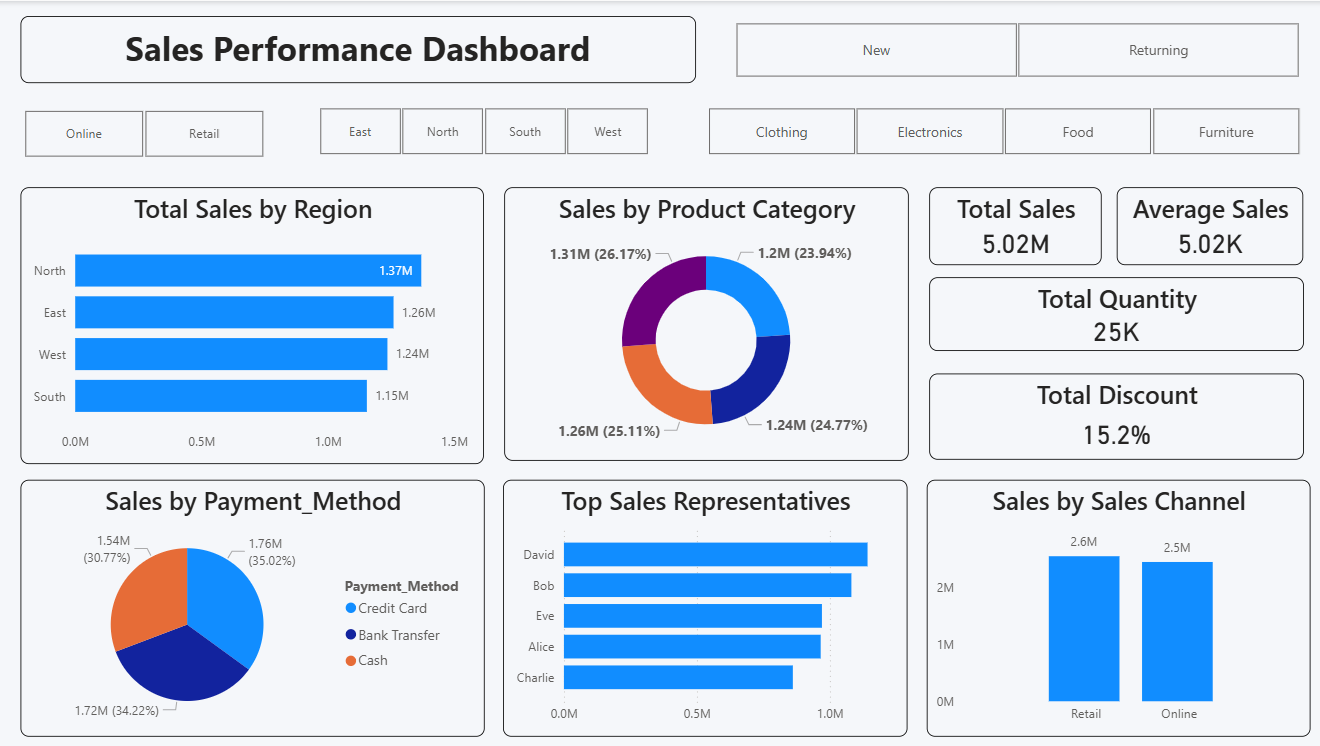

This screenshot's page, from the dashboard's own definition file:
{"tool":"powerbi","page":{"name":"Page 1","canvas":[1280,720],"ordinal":0},"visuals":[{"type":"card","title":"Total Sales","fields":{"Values":["sales_data.Total Sales"]},"box":[898.6,180,166.4,75],"z":0},{"type":"card","title":"Total Quantity","fields":{"Values":["sales_data.Total Quantity"]},"box":[899.3,266.4,361.4,71.4],"z":1000},{"type":"card","title":"Average Sales","fields":{"Values":["sales_data.Average Sales"]},"box":[1080,180,180,75],"z":2000},{"type":"clusteredBarChart","fields":{"Category":["sales_data.Region"],"Y":["sales_data.Total Sales"]},"box":[21.2,180,447.5,267.5],"z":3000},{"type":"donutChart","title":"Sales by Product Category","fields":{"Category":["sales_data.Product_Category"],"Y":["Sum(sales_data.Sales_Amount)"]},"box":[488.8,180,390,263.8],"z":4000},{"type":"clusteredColumnChart","title":"Sales by Sales Channel","fields":{"Category":["sales_data.Sales_Channel"],"Y":["sales_data.Total Sales"]},"box":[896,462,370,248],"z":5000},{"type":"pieChart","title":"Sales by Payment_Method","fields":{"Category":["sales_data.Payment_Method"],"Y":["sales_data.Total Sales"]},"box":[22,462,448,248],"z":6000},{"type":"clusteredBarChart","title":"Top Sales Representatives","fields":{"Category":["sales_data.Sales_Rep"],"Y":["sales_data.Total Sales"]},"box":[488,462,390,248],"z":7000},{"type":"slicer","fields":{"Values":["sales_data.Region"]},"box":[285,96.7,366.7,58.3],"z":8000},{"type":"slicer","fields":{"Values":["sales_data.Product_Category"]},"box":[660,96.7,620,58.3],"z":9000},{"type":"slicer","fields":{"Values":["sales_data.Customer_Type"]},"box":[687,15,593,65],"z":10000},{"type":"slicer","fields":{"Values":["sales_data.Sales_Channel"]},"box":[0,98.3,280,58.3],"z":11000},{"type":"textbox","box":[21.7,15,651.7,65],"z":12000},{"type":"card","title":"Total Discount","fields":{"Values":["sales_data.Average Discount"]},"box":[899.3,360,361.4,83.6],"z":13000}]}

Visuals, with their boxes in screenshot pixels (x1, y1, x2, y2), scaled from the page's 1280x720 canvas onto the 1320x746 screenshot:
"Total Sales" card: rect(927, 187, 1098, 264)
"Total Quantity" card: rect(927, 276, 1300, 350)
"Average Sales" card: rect(1114, 187, 1299, 264)
clusteredBarChart - sales_data.Region x sales_data.Total Sales: rect(22, 187, 483, 464)
"Sales by Product Category" donutChart: rect(504, 187, 906, 460)
"Sales by Sales Channel" clusteredColumnChart: rect(924, 479, 1306, 736)
"Sales by Payment_Method" pieChart: rect(23, 479, 485, 736)
"Top Sales Representatives" clusteredBarChart: rect(503, 479, 905, 736)
slicer - sales_data.Region: rect(294, 100, 672, 161)
slicer - sales_data.Product_Category: rect(681, 100, 1319, 161)
slicer - sales_data.Customer_Type: rect(708, 16, 1319, 83)
slicer - sales_data.Sales_Channel: rect(0, 102, 289, 162)
textbox: rect(22, 16, 694, 83)
"Total Discount" card: rect(927, 373, 1300, 460)
